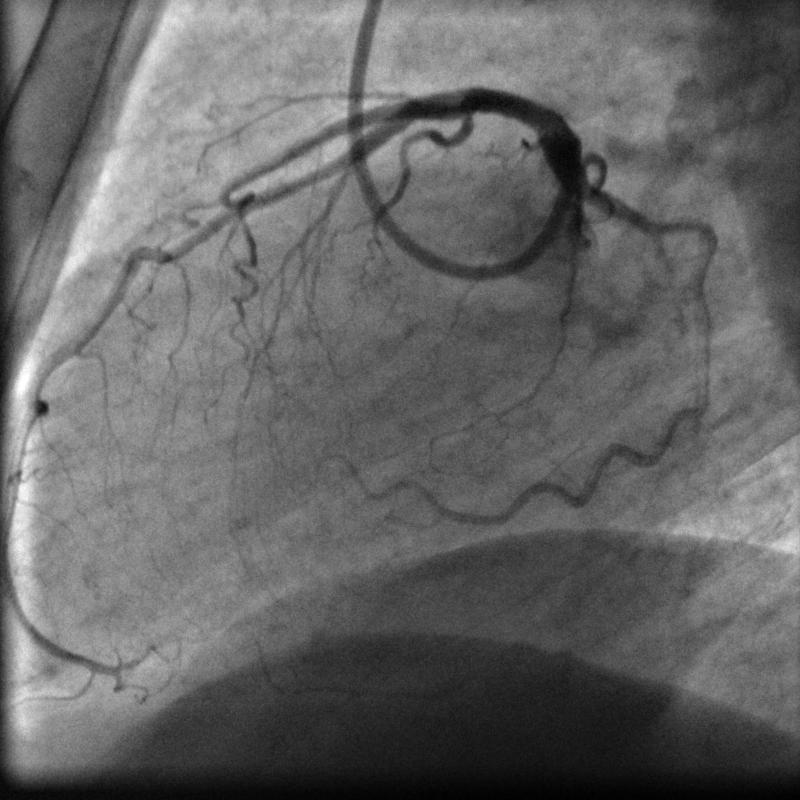Stenosis: (436, 88, 483, 133)
